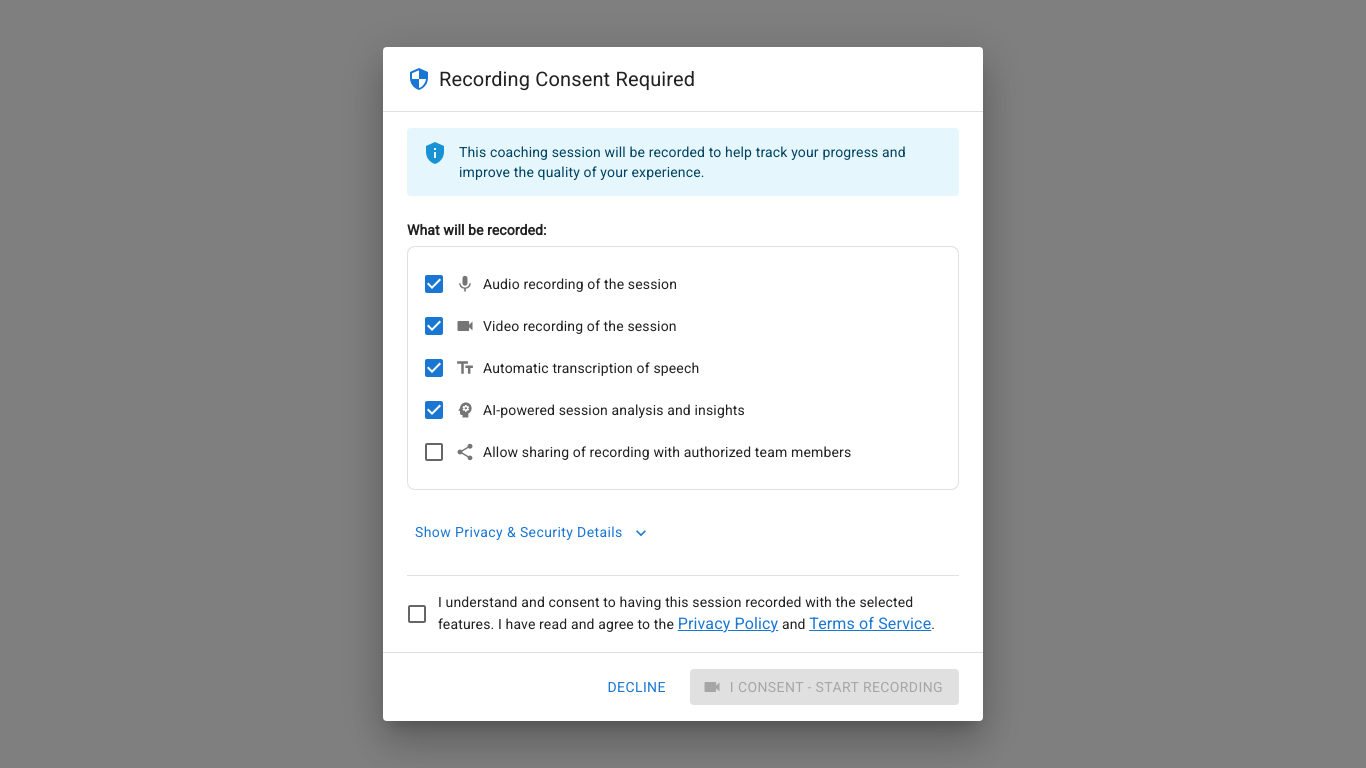
Test case: RecordingConsentDialog › shows expanded privacy details when clicked
Click the button "Show Privacy & Security Details" at (531, 533), box left=407, top=514, right=655, bottom=551
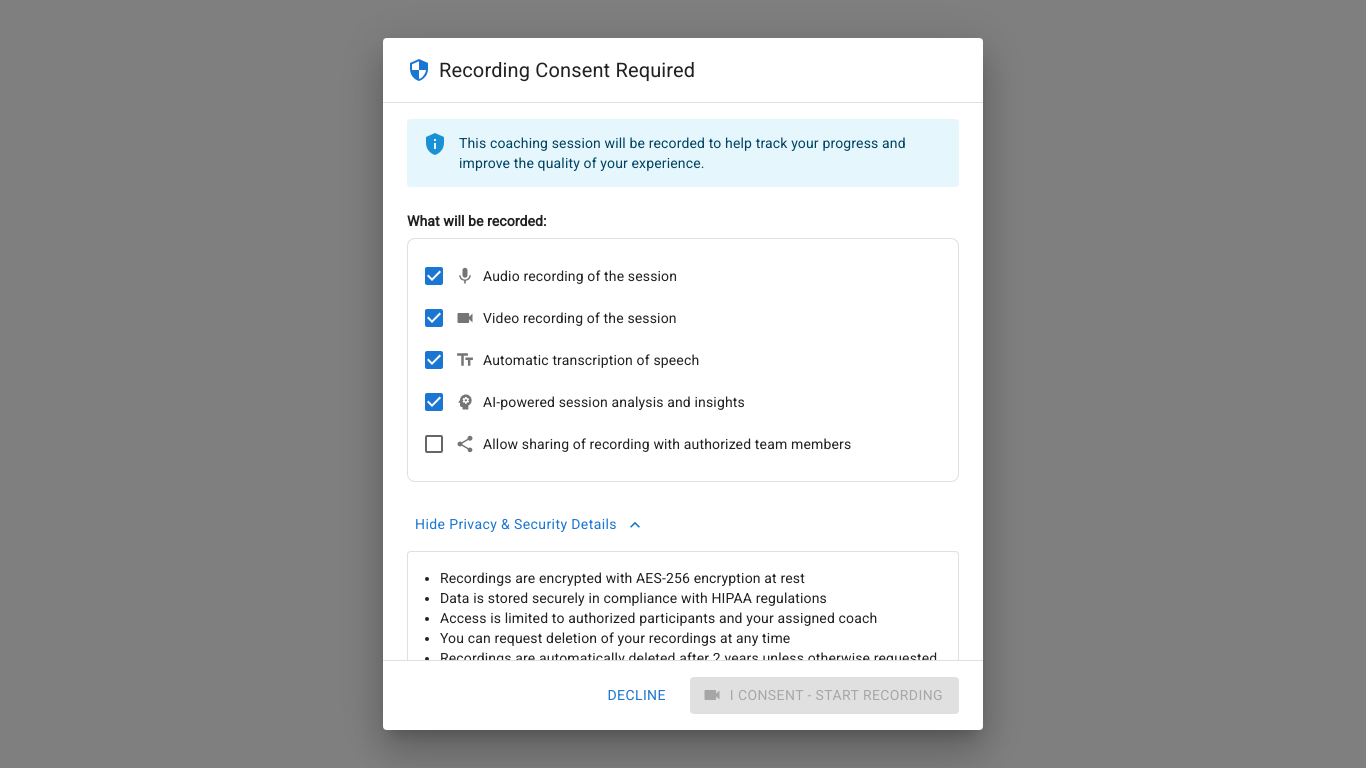
Expected: the list item "Recordings are encrypted with AES-256 encryption at rest" is shown, left=440, top=570, right=805, bottom=586
Expected: the list item "Data is stored securely in compliance with HIPAA regulations" is shown, left=440, top=590, right=827, bottom=606
